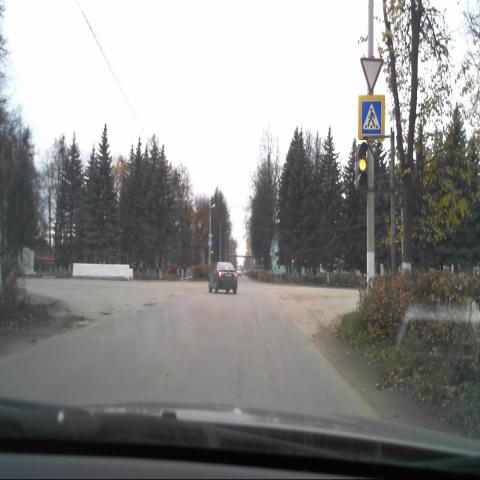2_4: (360, 57, 384, 93)
